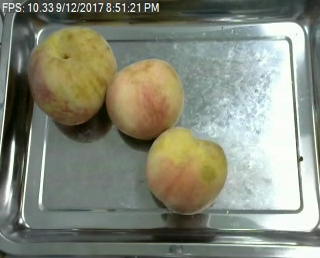Peach: (27, 25, 114, 125), (145, 127, 228, 214), (106, 58, 185, 140)
